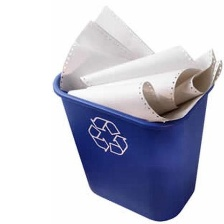news_paper: (54, 2, 224, 128)
